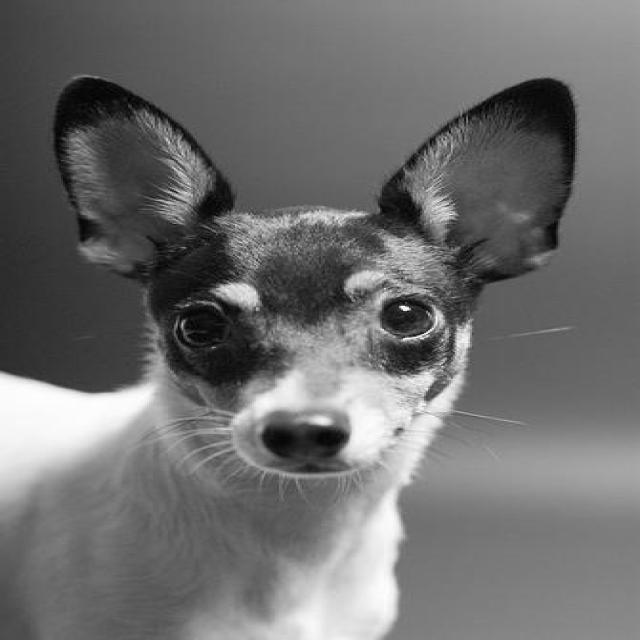toy_terrier: (0, 77, 583, 631)
